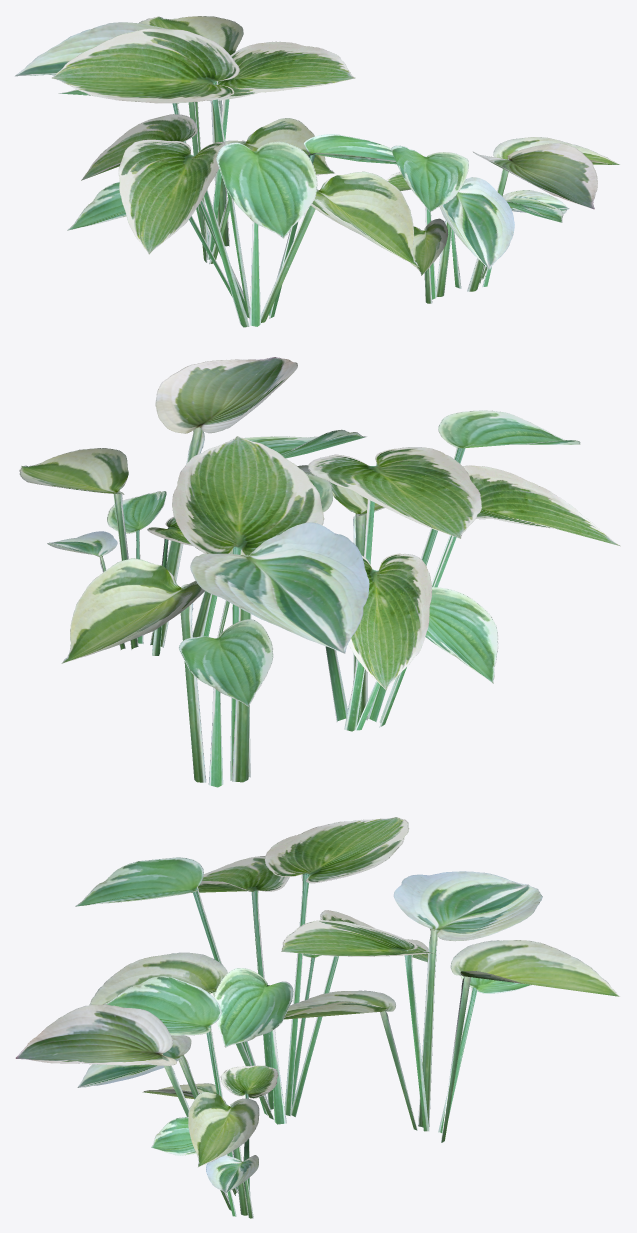
File: plant_small_wg_00_o-corner06.fbx
The picture shows the model from 3 angles, top to bottom: view 1: azimuth 30°, elevation 25°; view 2: azimuth 150°, elevation 25°; view 3: azimuth 270°, elevation 25°; orthographic projection. The views are drawn at different scales.
Parts seen in each view (by area): view 1: plant_small_wg_00_o-corner06; view 2: plant_small_wg_00_o-corner06; view 3: plant_small_wg_00_o-corner06.
Part boxes in pixels (x1,y1,x2,y2): plant_small_wg_00_o-corner06: (15, 16, 619, 327); plant_small_wg_00_o-corner06: (19, 357, 620, 787); plant_small_wg_00_o-corner06: (15, 817, 619, 1218).
Size of the model in its own units: 87.31 by 43.58 by 94.73.
1 material, 1 textured.
